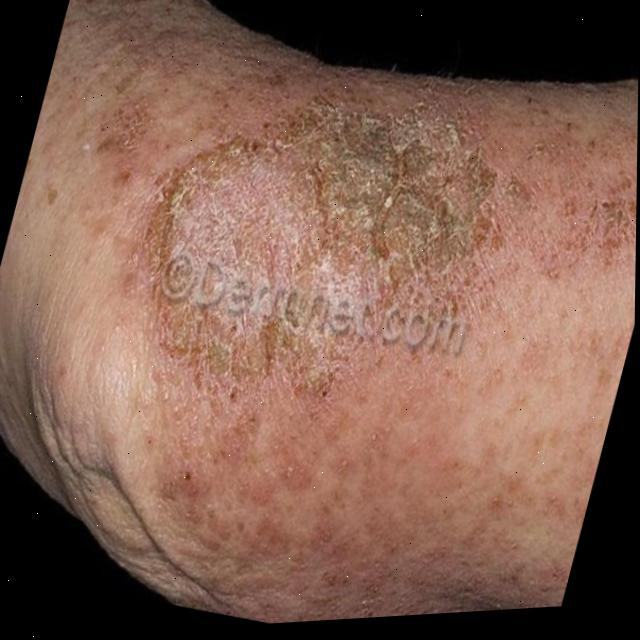Eczema: (85, 11, 601, 478)
